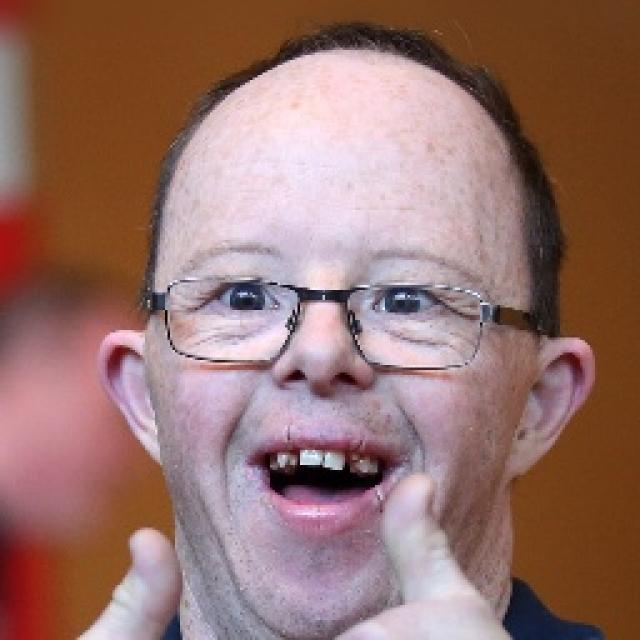earlobe: (509, 443, 536, 484), (146, 443, 170, 471)
eye: (212, 273, 285, 322), (370, 284, 440, 322)
nose: (271, 374, 375, 424)
wholeear: (504, 334, 598, 486), (94, 332, 168, 468)
